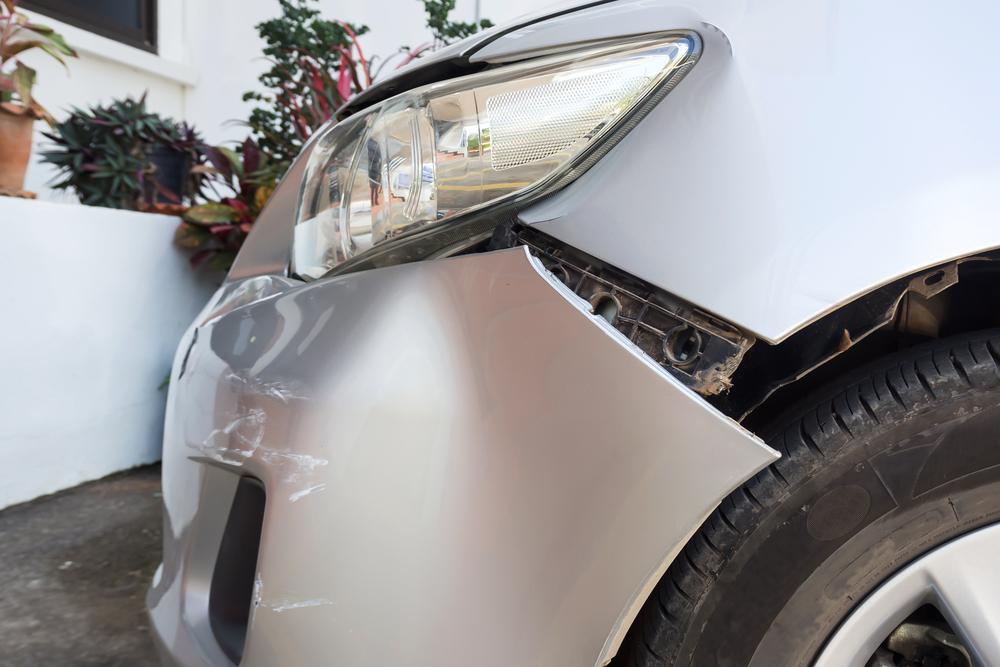dent: (260, 251, 692, 667)
scratch: (201, 367, 320, 492)
